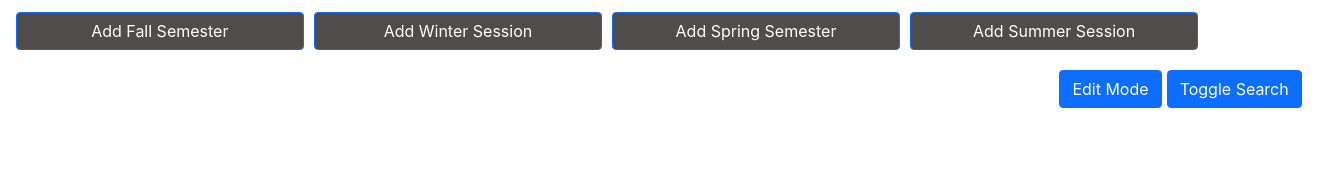
Test case: AddSemester Component tests › There is a button named Remove All Semester
Click the button "Edit Mode" at (1110, 89), box [1059,70,1162,108]
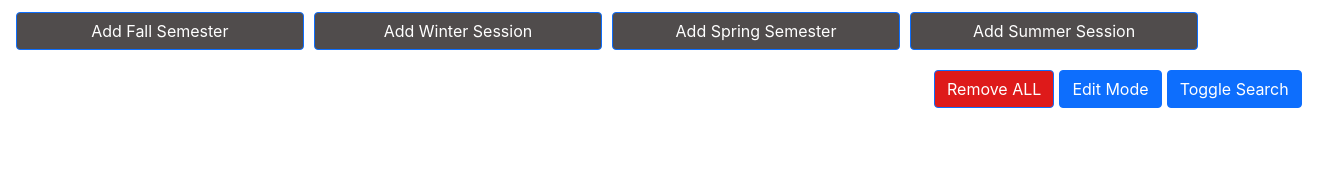
Check: the button "Remove ALL" is shown, box [934,70,1054,108]
